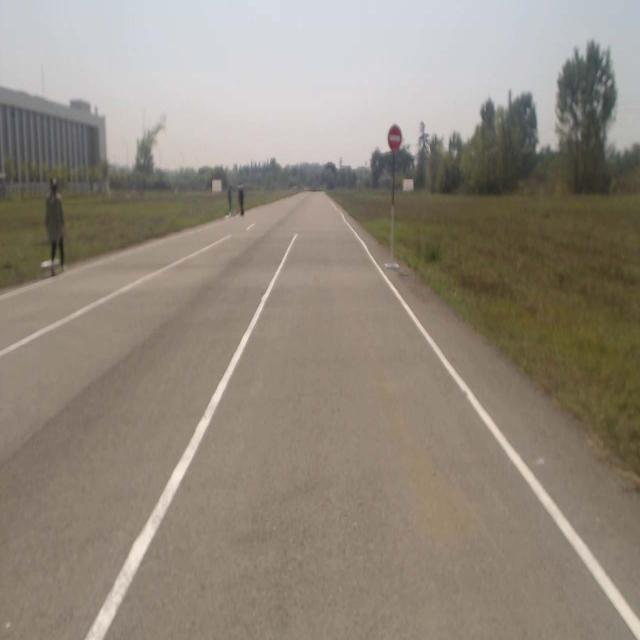girisyok: (388, 126, 402, 150)
